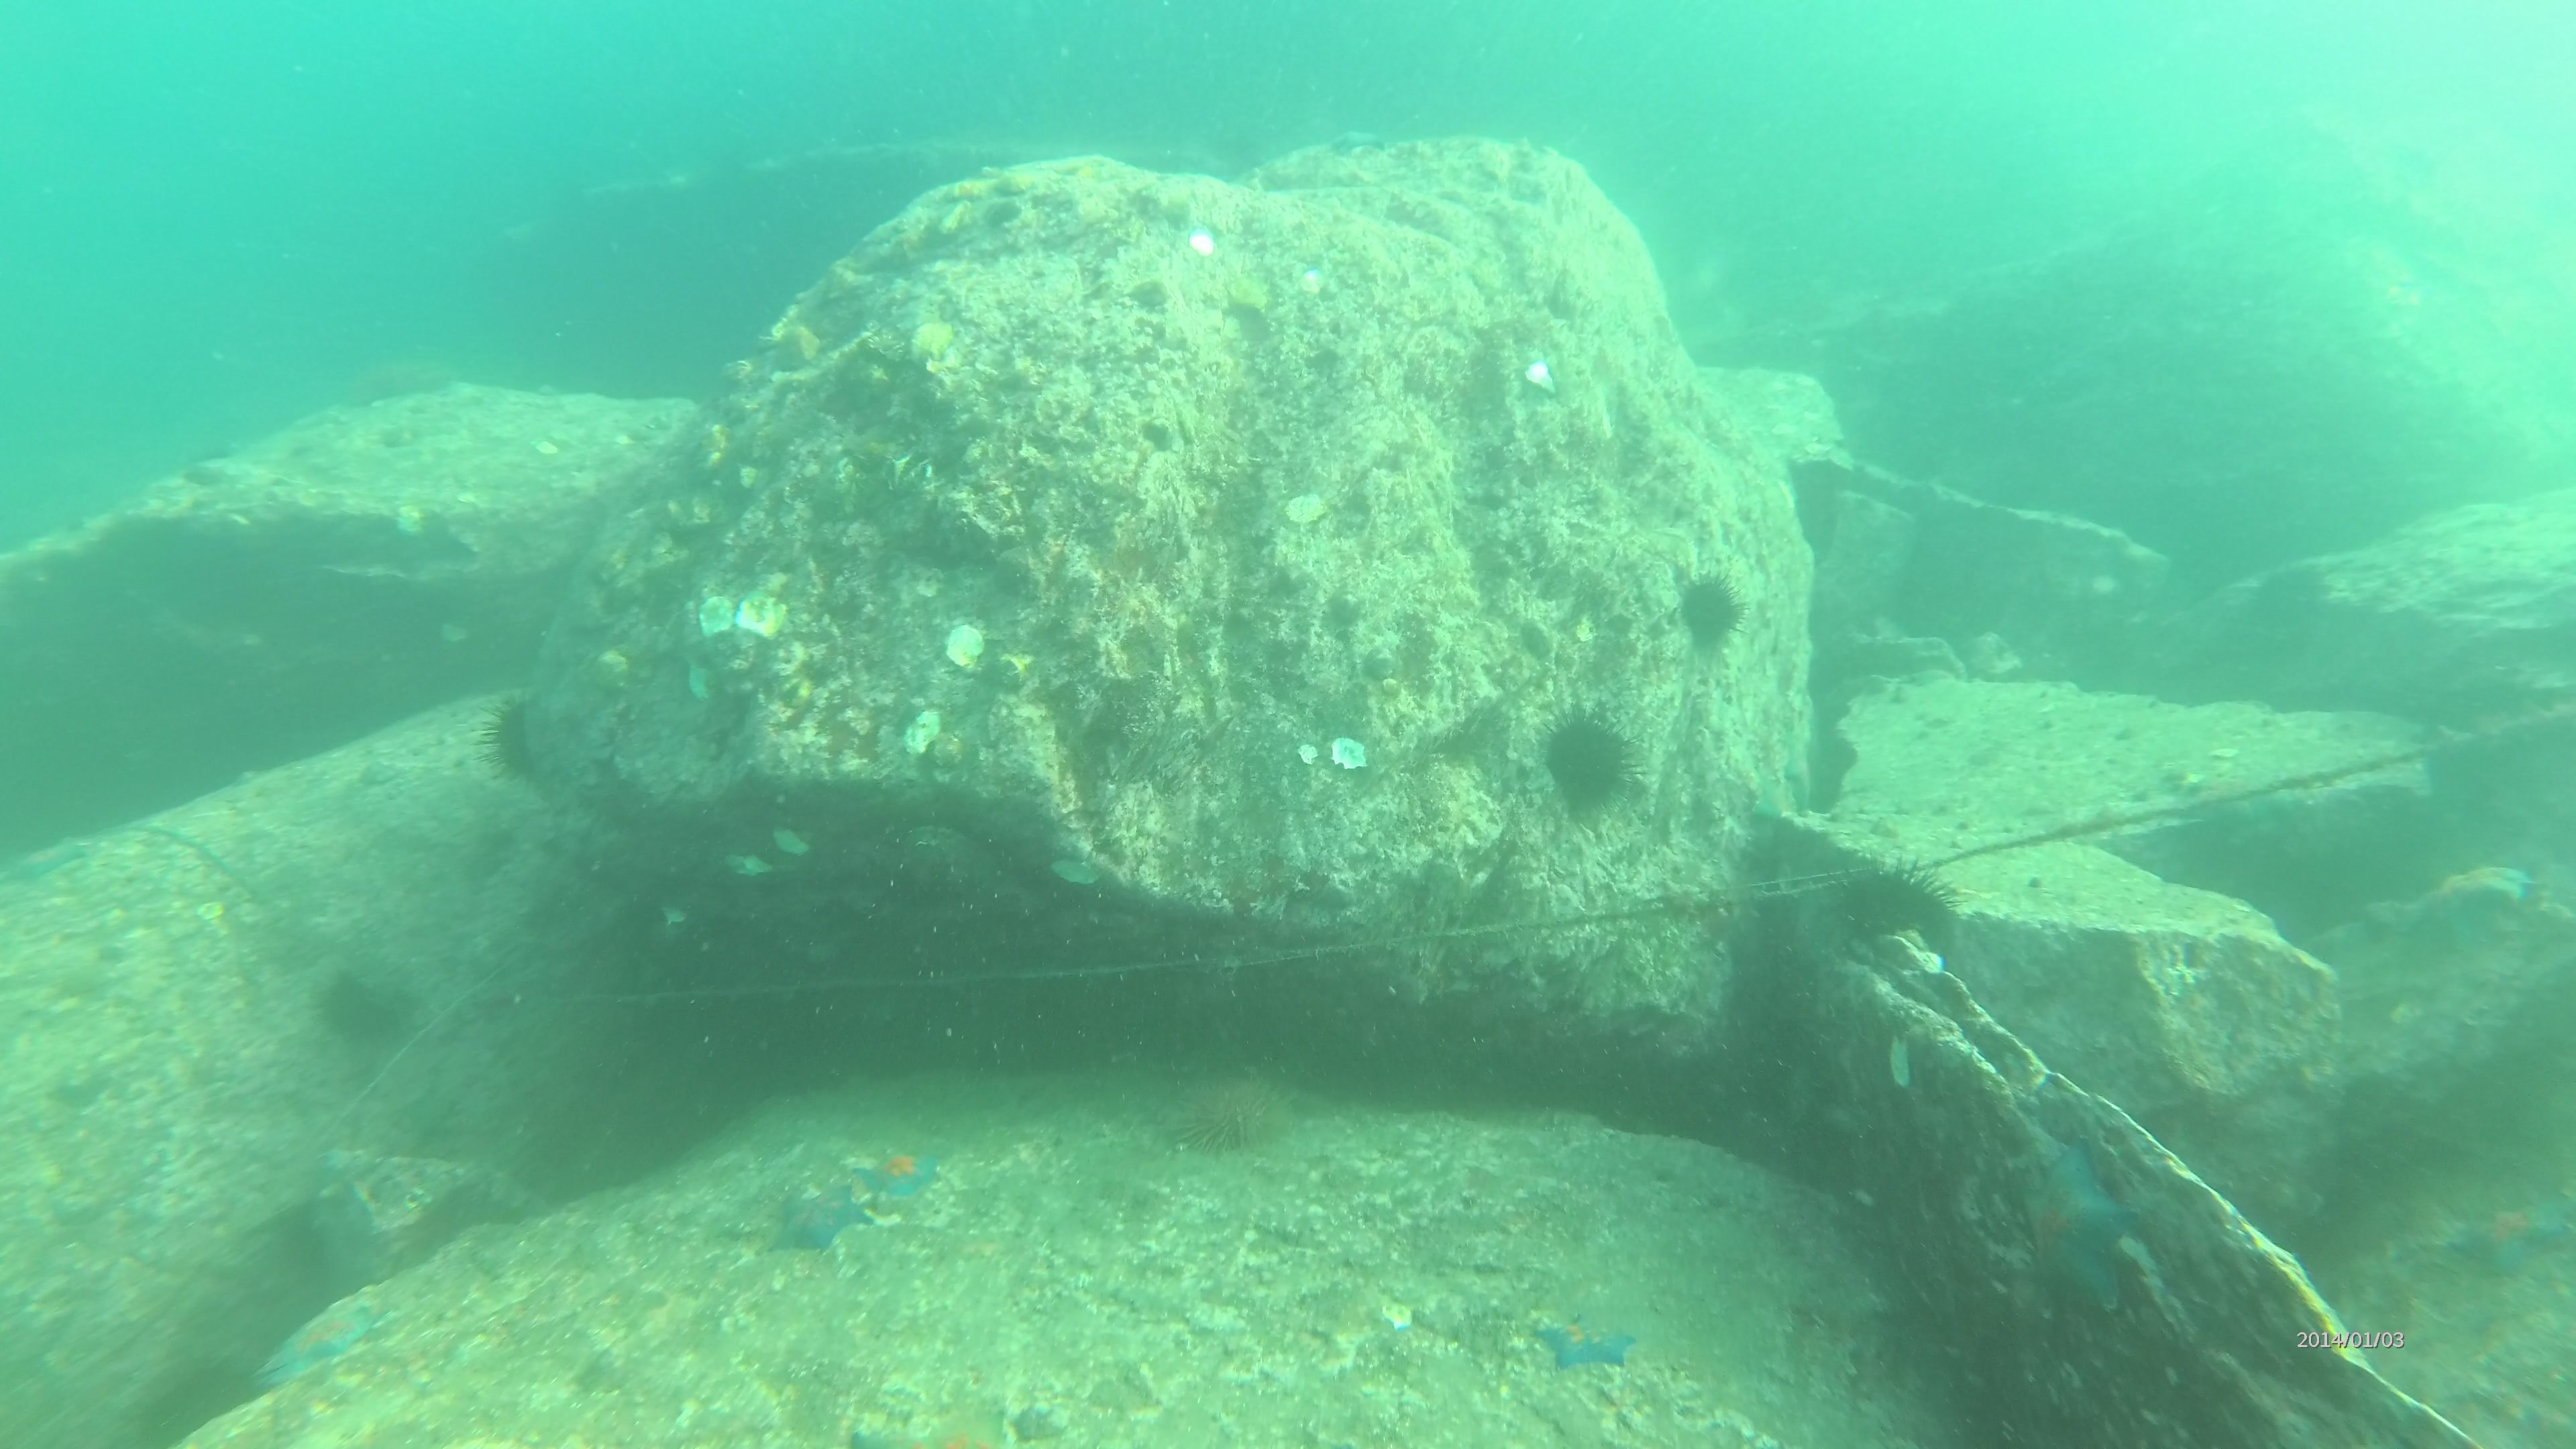echinus: (1537, 699, 1645, 823), (1838, 858, 1967, 957), (1171, 1076, 1292, 1166), (317, 954, 421, 1047), (465, 692, 556, 796), (1677, 566, 1753, 665)
starfish: (761, 1180, 872, 1263), (1537, 1293, 1638, 1373), (863, 1138, 939, 1200)
